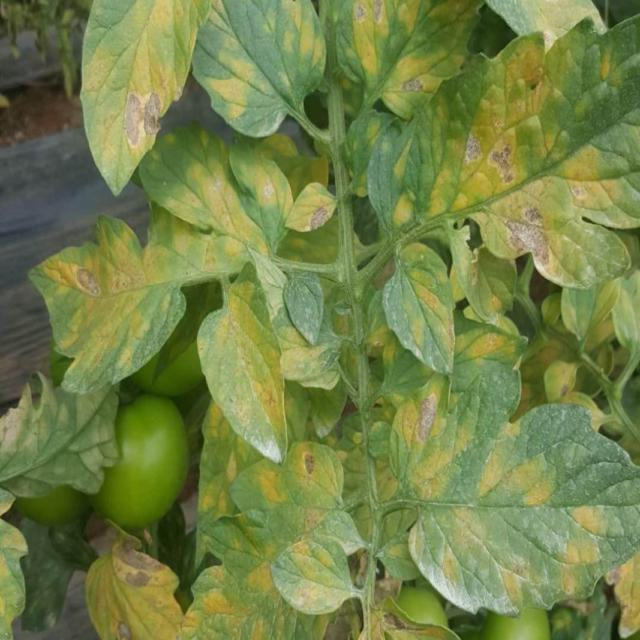Late_blight: (490, 196, 554, 273), (115, 82, 166, 156), (109, 536, 171, 592), (398, 389, 438, 453), (486, 137, 520, 190), (377, 606, 426, 640), (70, 264, 105, 300), (97, 612, 141, 640), (301, 199, 331, 232), (457, 128, 482, 167), (298, 448, 323, 485), (352, 1, 385, 26), (392, 74, 427, 96)
